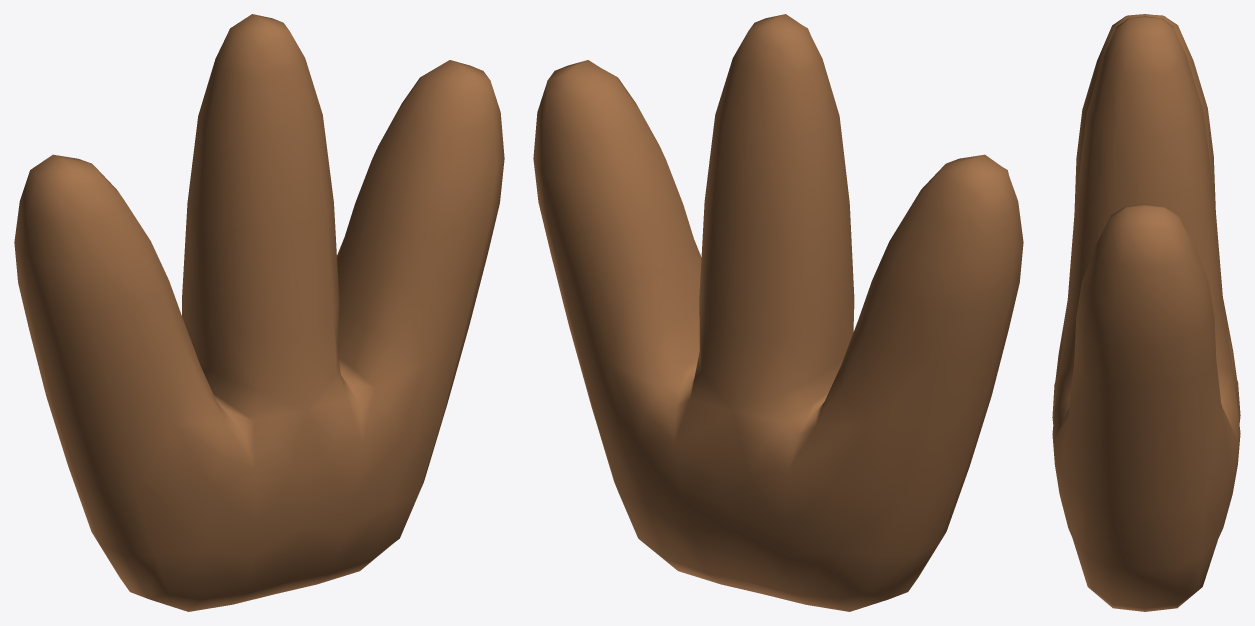
The model's file is Tri-Fin.fbx.
3 views of the same model, side by side, from view 1: azimuth 30°, elevation 25°; view 2: azimuth 150°, elevation 25°; view 3: azimuth 270°, elevation 25° (orthographic).
Visible parts, largest first — view 1: Tri-Fin - gigas18 (SuperDing); view 2: Tri-Fin - gigas18 (SuperDing); view 3: Tri-Fin - gigas18 (SuperDing).
Part boxes in pixels (x1,y1,x2,y2): Tri-Fin - gigas18 (SuperDing): (14,14,504,611); Tri-Fin - gigas18 (SuperDing): (533,14,1023,611); Tri-Fin - gigas18 (SuperDing): (1052,14,1240,611).
Size of the model in its own units: 35.36 by 40.74 by 12.47.
